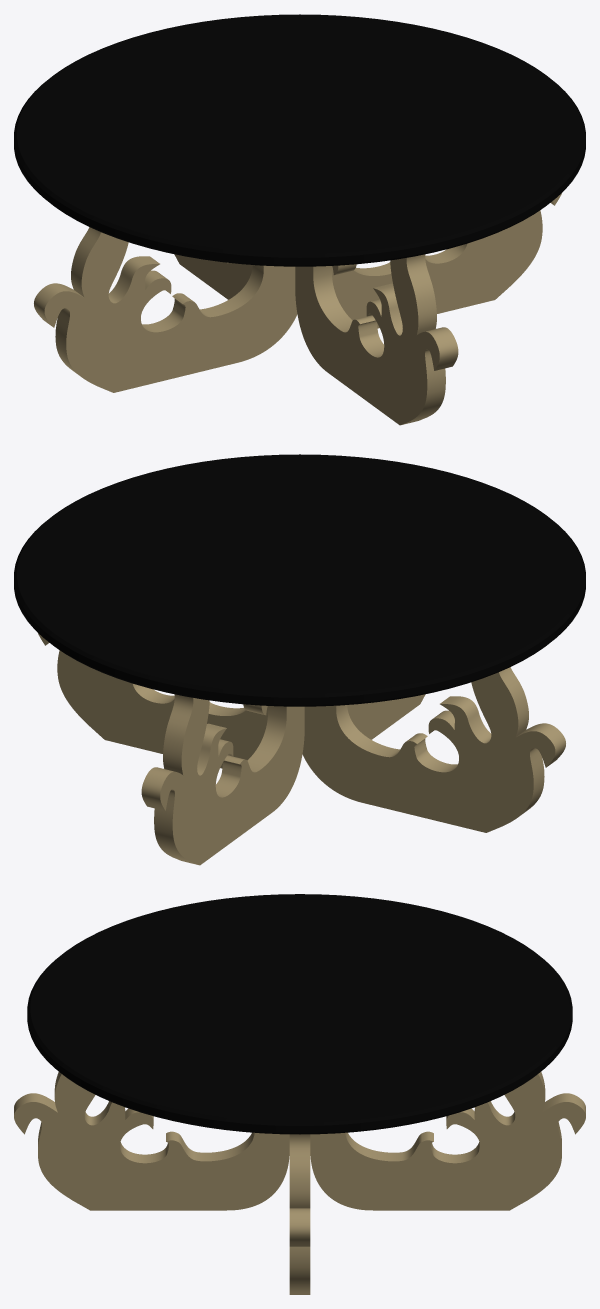
Rendered from Auxiliar_TAble_002.FBX.
3 views of the same model, one above another, from view 1: azimuth 30°, elevation 25°; view 2: azimuth 150°, elevation 25°; view 3: azimuth 270°, elevation 25° (orthographic). The views are drawn at different scales.
Visible parts, largest first — view 1: Auxiliar_Table_002; view 2: Auxiliar_Table_002; view 3: Auxiliar_Table_002.
Part boxes in pixels (bbox=[...]): Auxiliar_Table_002: bbox=[14, 14, 585, 425]; Auxiliar_Table_002: bbox=[14, 454, 585, 865]; Auxiliar_Table_002: bbox=[14, 894, 585, 1294].
Size of the model in its own units: 83.89 by 32.12 by 83.89.
